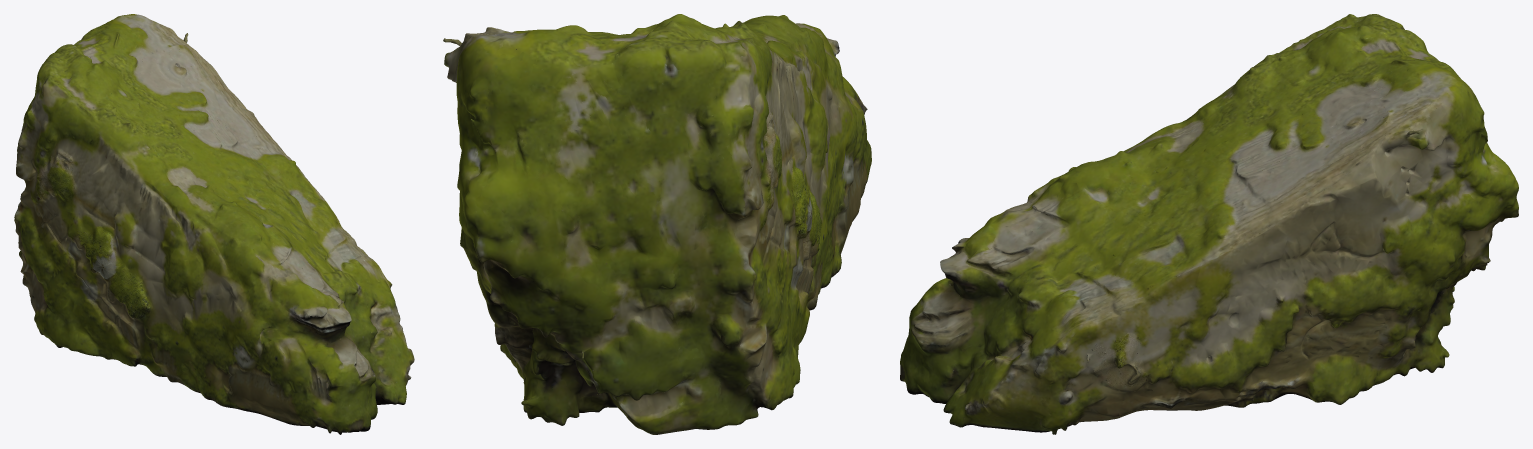
File: rock.mossy.glb
3 views of the same model, side by side, from view 1: azimuth 30°, elevation 25°; view 2: azimuth 150°, elevation 25°; view 3: azimuth 270°, elevation 25° (orthographic). The views are drawn at different scales.
Visible parts, largest first — view 1: tripo_part_2, tripo_part_1, tripo_part_3; view 2: tripo_part_2, tripo_part_1, tripo_part_3; view 3: tripo_part_2, tripo_part_0.
Boxes of the visible parts, x1=… form: tripo_part_2: x1=14, y1=14, x2=414, y2=434; tripo_part_1: x1=75, y1=226, x2=150, y2=320; tripo_part_3: x1=31, y1=151, x2=76, y2=203; tripo_part_2: x1=443, y1=14, x2=871, y2=434; tripo_part_1: x1=791, y1=167, x2=821, y2=260; tripo_part_3: x1=760, y1=111, x2=781, y2=229; tripo_part_2: x1=900, y1=14, x2=1518, y2=434; tripo_part_0: x1=1092, y1=332, x2=1149, y2=388.
Size of the model in its own units: 0.5493 by 0.5623 by 0.9999.
Materials: 4 (4 with a texture image).
